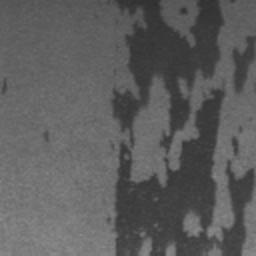Red iron sheet: (105, 0, 256, 256), (232, 36, 256, 93), (0, 82, 9, 96), (232, 137, 239, 155), (178, 6, 188, 17), (41, 131, 50, 142), (109, 141, 116, 151)
